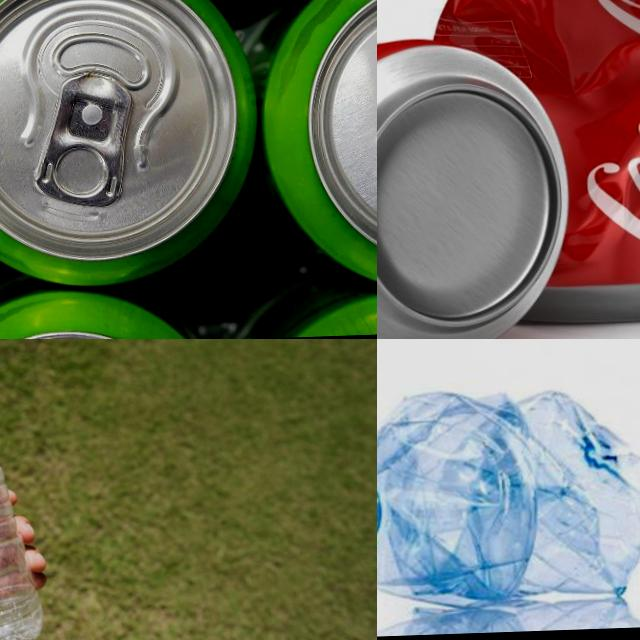aba de lata: (29, 71, 132, 200)
garrafa plástica: (377, 384, 640, 615), (0, 346, 46, 640)
lata: (0, 0, 260, 286), (417, 0, 640, 330), (377, 30, 576, 339)
